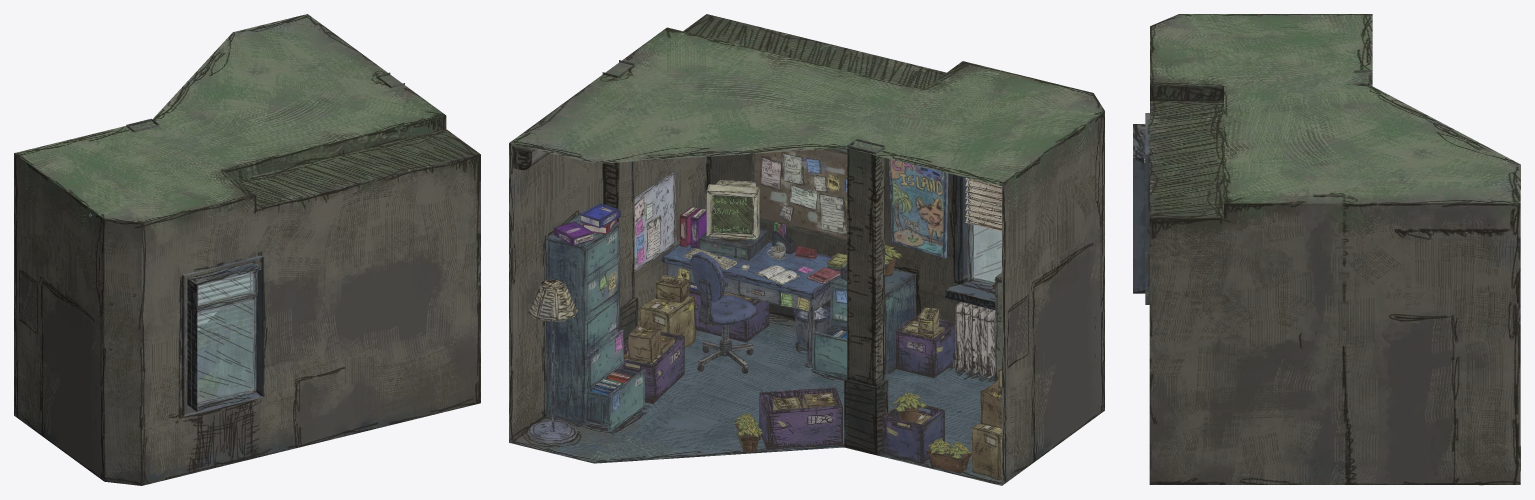
File: office.glb
The picture shows the model from 3 angles, left to right: view 1: azimuth 30°, elevation 25°; view 2: azimuth 150°, elevation 25°; view 3: azimuth 270°, elevation 25°; orthographic projection. The views are drawn at different scales.
Visible parts, largest first — view 1: Room, Window, Boxes; view 2: Room, Boxes, Window; view 3: Room.
Part boxes in pixels (<box>): Room: <box>14,14,480,485</box>; Window: <box>83,67,284,407</box>; Boxes: <box>189,263,258,379</box>; Room: <box>509,14,1104,485</box>; Boxes: <box>546,148,1001,480</box>; Window: <box>528,109,1017,473</box>; Room: <box>1133,14,1520,484</box>.
Bounding box in the file's own units: 4.87 × 3.39 × 4.18.
Materials: 3 (3 with a texture image).
